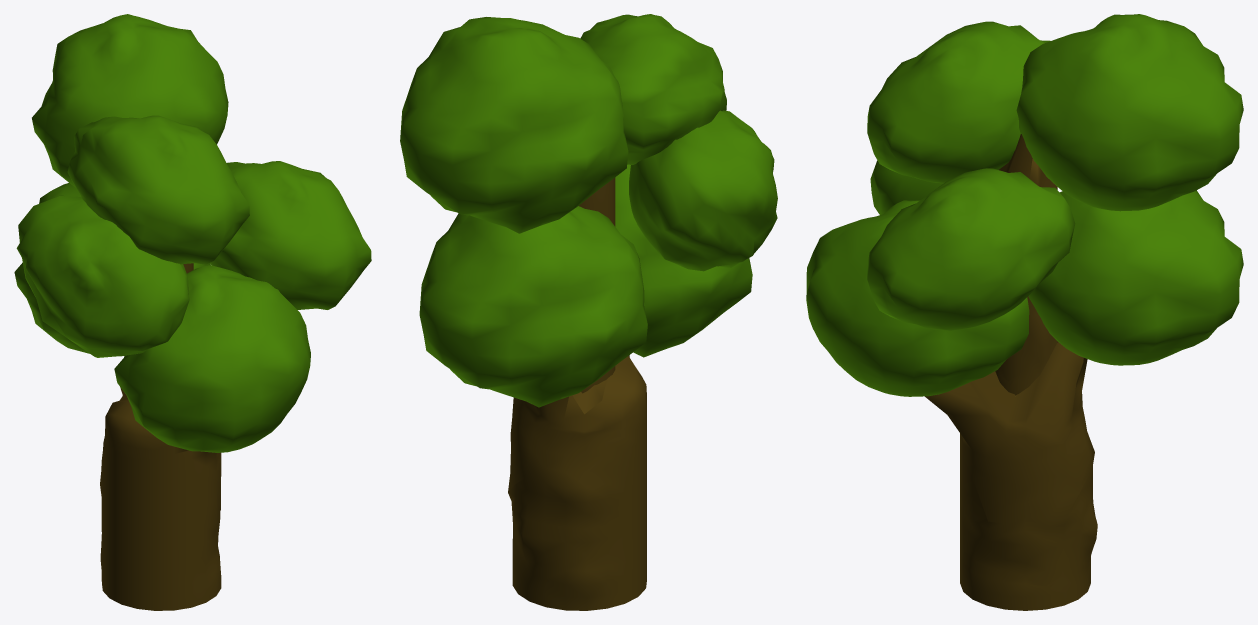
The model's file is SimpleTree.fbx.
The picture shows the model from 3 angles, left to right: view 1: azimuth 30°, elevation 25°; view 2: azimuth 150°, elevation 25°; view 3: azimuth 270°, elevation 25°; orthographic projection. The views are drawn at different scales.
Visible parts, largest first — view 1: pCylinder3; view 2: pCylinder3; view 3: pCylinder3.
Boxes of the visible parts, bbox=[...] form: pCylinder3: bbox=[14, 14, 371, 610]; pCylinder3: bbox=[400, 14, 777, 610]; pCylinder3: bbox=[806, 14, 1243, 610].
Bounding box in the file's own units: 2902 × 4719 × 3278.
